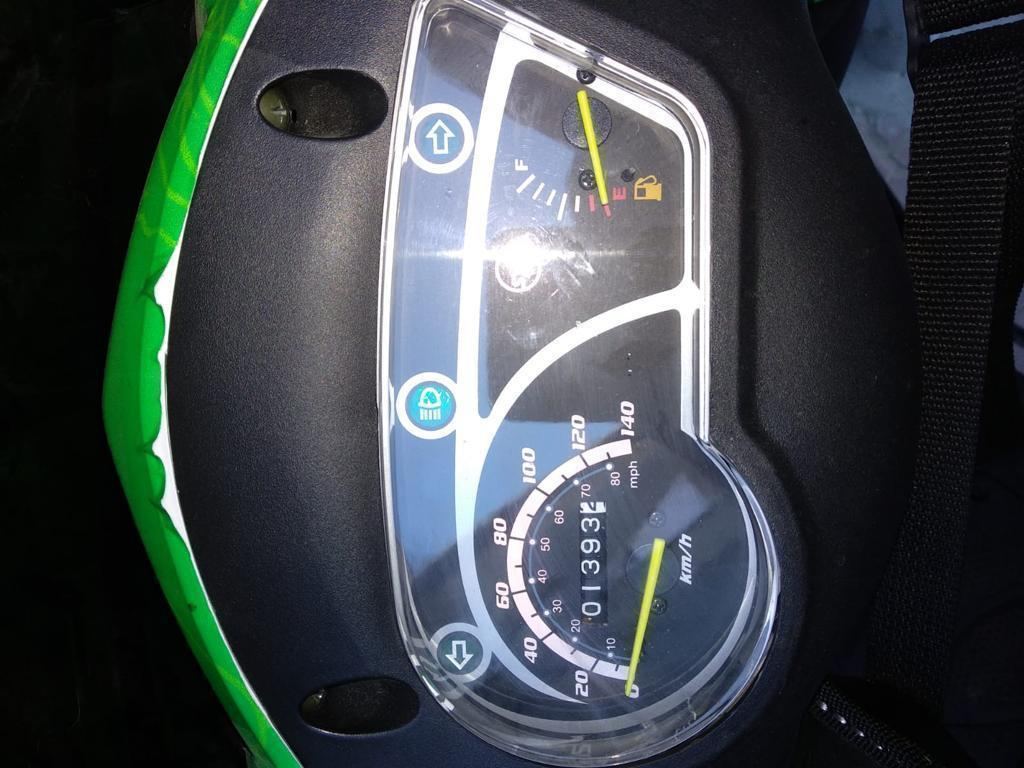0: (580, 600, 602, 617), (574, 618, 579, 625)
1: (579, 583, 603, 592)
2: (578, 500, 598, 513)
3: (578, 558, 601, 575), (578, 517, 602, 533)
9: (579, 536, 601, 554)
odometer: (574, 498, 612, 628)
